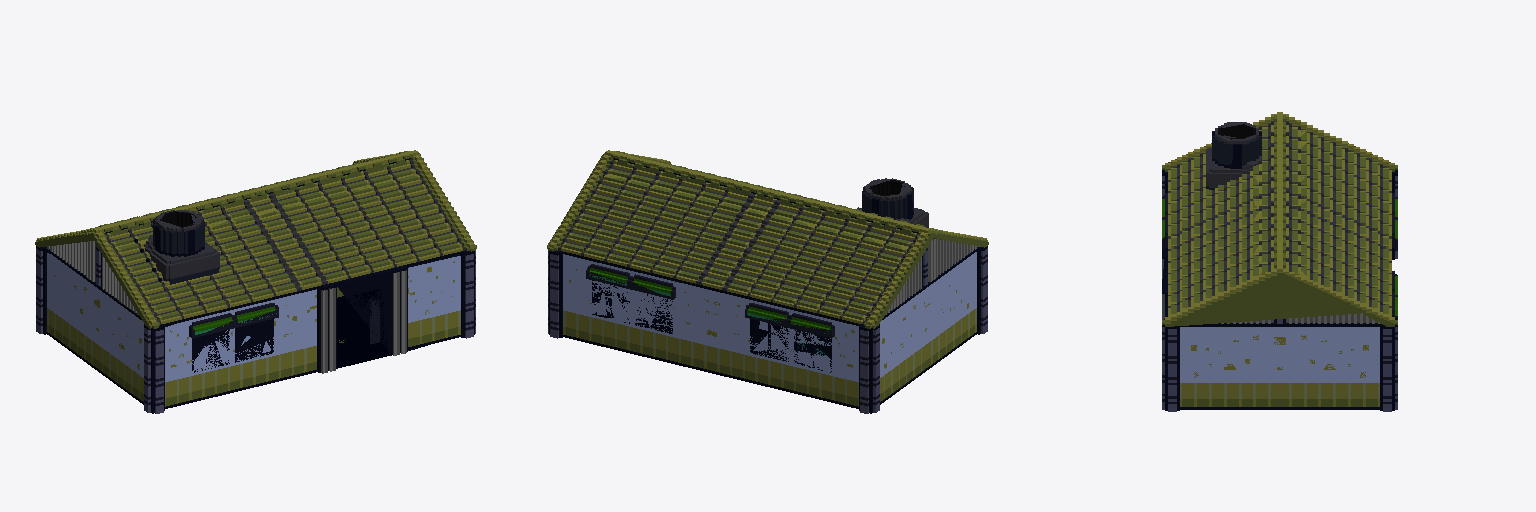
File: ProfHouse.obj
3 renders of one model, left to right at view 1: azimuth 30°, elevation 25°; view 2: azimuth 150°, elevation 25°; view 3: azimuth 270°, elevation 25°, orthographic.
Visible parts, largest first — view 1: ProfessorsHouse_ProfessorsHouse.052; view 2: ProfessorsHouse_ProfessorsHouse.052; view 3: ProfessorsHouse_ProfessorsHouse.052.
Boxes of the visible parts, box(x1,y1,x2,y2) form: ProfessorsHouse_ProfessorsHouse.052: box(35, 150, 476, 413); ProfessorsHouse_ProfessorsHouse.052: box(547, 150, 988, 413); ProfessorsHouse_ProfessorsHouse.052: box(1162, 112, 1397, 411).
Bounding box in the file's own units: 5.12 × 2.28 × 3.2.